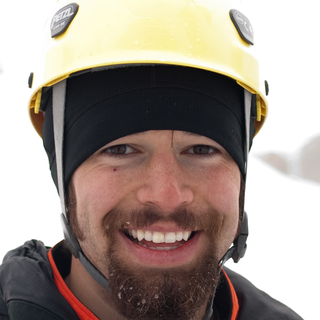eye: (173, 136, 225, 164), (98, 141, 148, 166)
